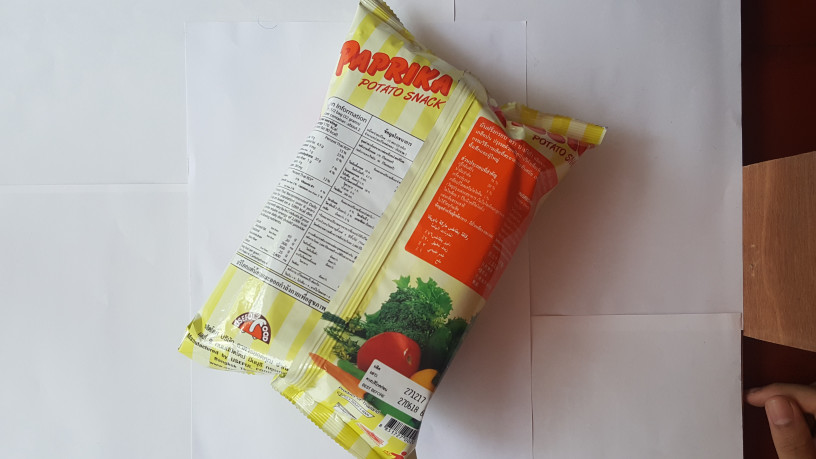paprika: (169, 1, 627, 458)
